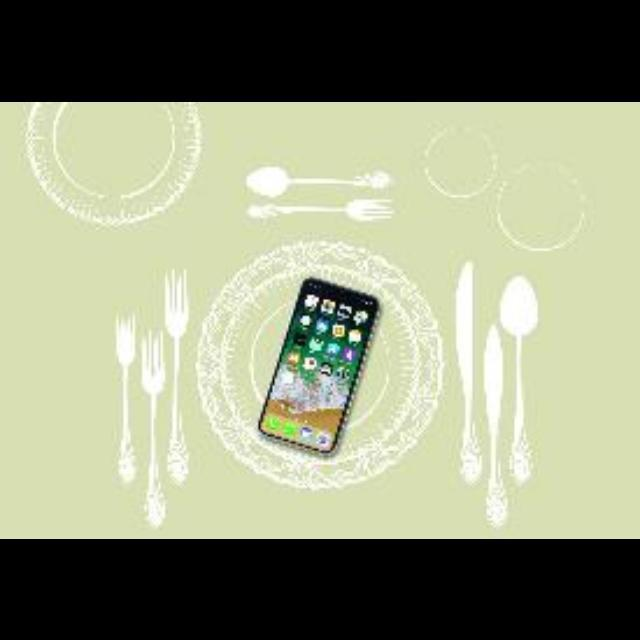PhoneUse: (258, 278, 376, 454)
